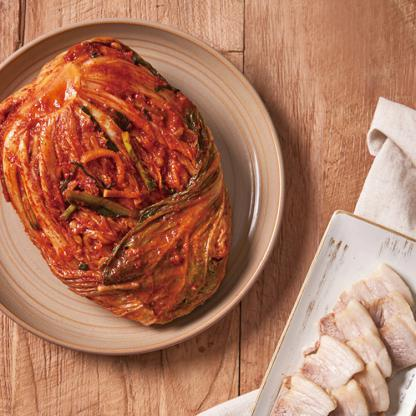kimchi: (0, 23, 259, 332)
